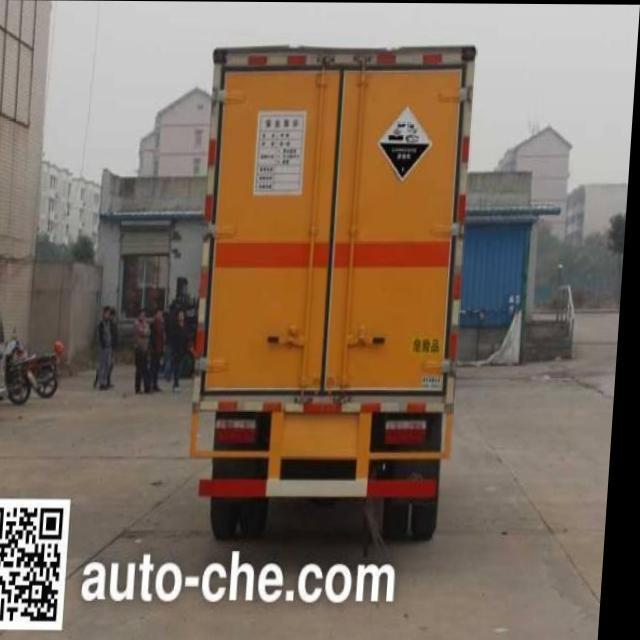covered: (200, 54, 492, 509)
